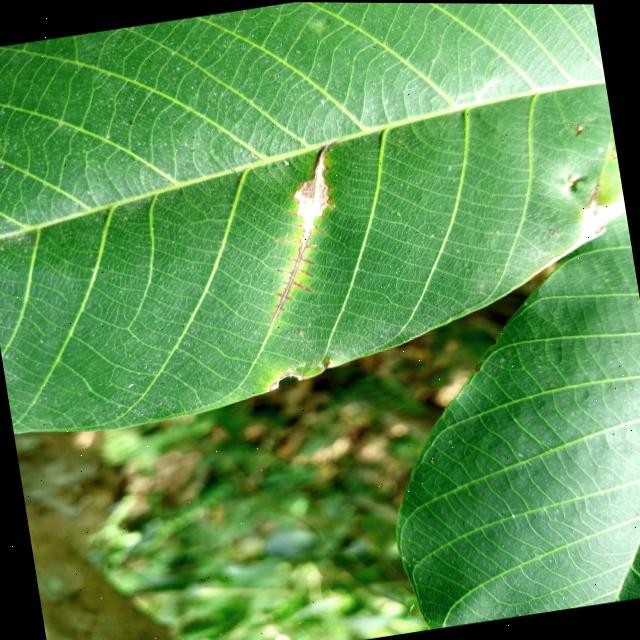Corynespora: (245, 140, 362, 321)
Leaf-Blight: (528, 196, 634, 272)
